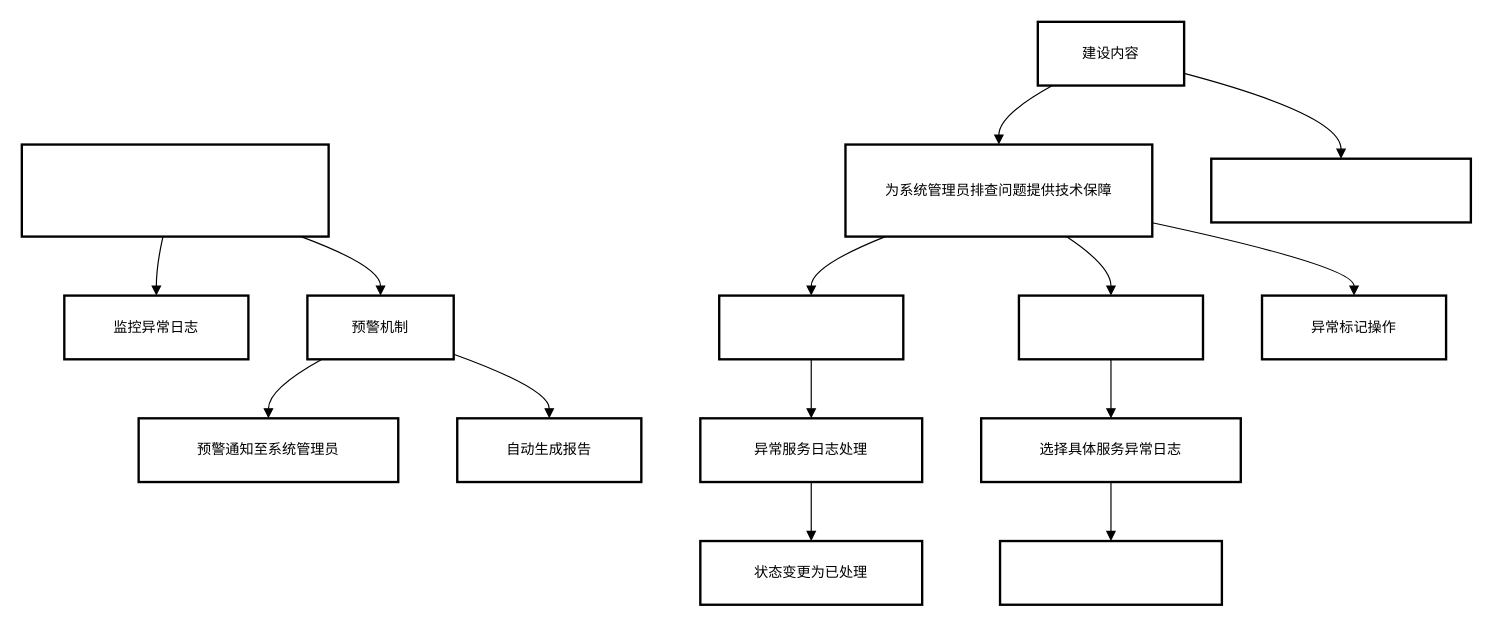
Image size: 1492x625. Some labels were removed from this diagram. Each missing label, with the box of its shape:
提供对各类空间服务异常日志进行监控和预警: (20, 143, 329, 237)
查看日志详情信息: (998, 539, 1222, 605)
查询异常日志: (1017, 294, 1204, 360)
确保应用系统的稳定性: (1210, 157, 1471, 223)
记录异常日志: (717, 294, 904, 360)
